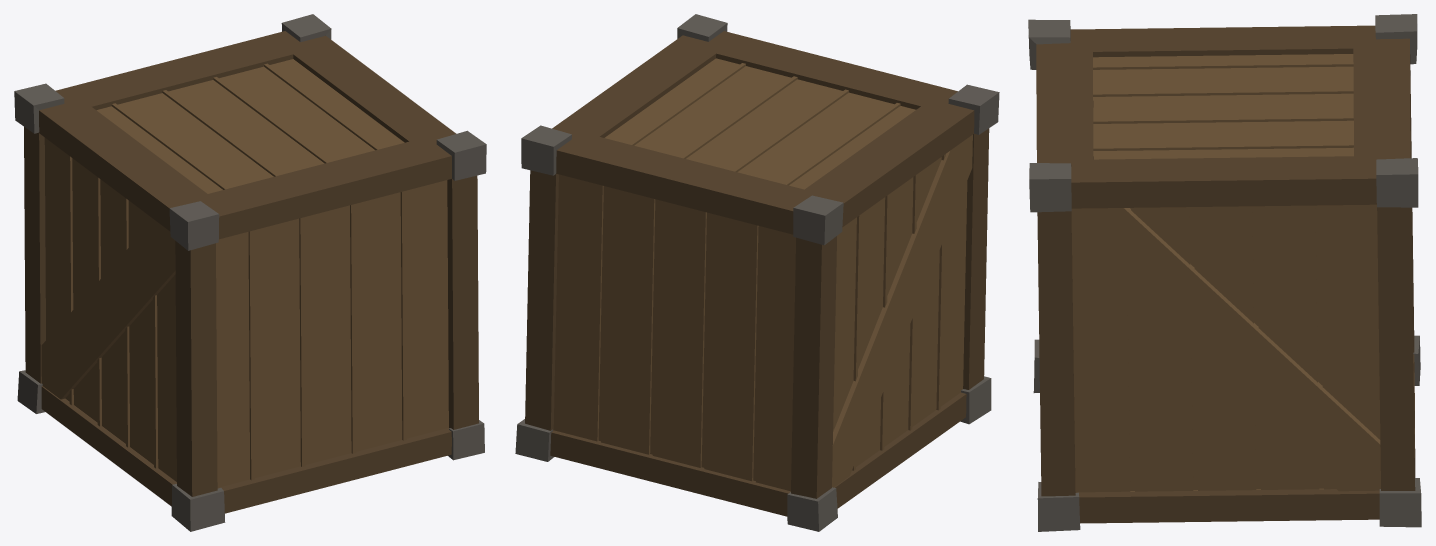
Rendered from Wooden crate_2.fbx.
The picture shows the model from 3 angles, left to right: view 1: azimuth 30°, elevation 25°; view 2: azimuth 150°, elevation 25°; view 3: azimuth 270°, elevation 25°; orthographic projection. The views are drawn at different scales.
Parts seen in each view (by area): view 1: Wooden crate_2; view 2: Wooden crate_2; view 3: Wooden crate_2.
Part boxes in pixels (x1,y1,x2,y2): Wooden crate_2: (14, 14, 486, 531); Wooden crate_2: (515, 14, 999, 531); Wooden crate_2: (1028, 14, 1421, 531).
Size of the model in its own units: 68.91 by 69.76 by 68.66.
